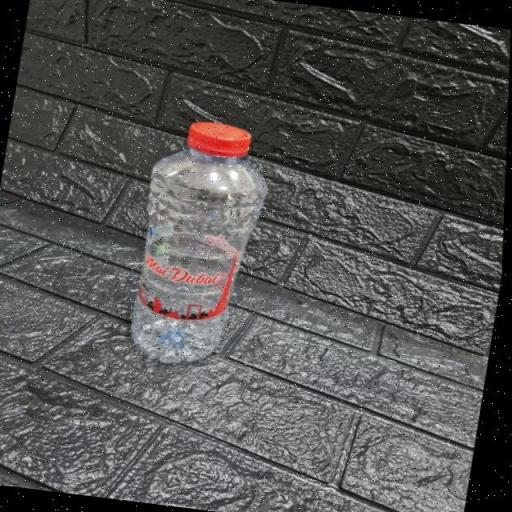plastic: (122, 114, 279, 372)
